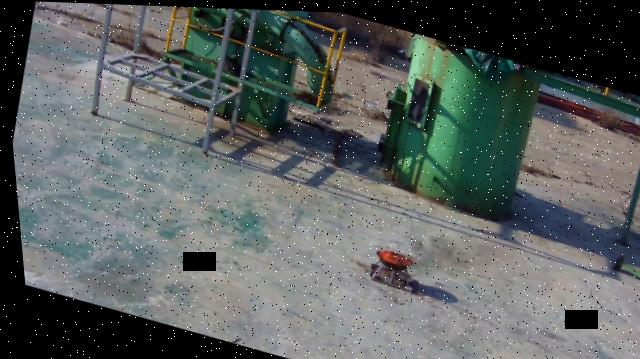fire: (374, 246, 407, 264)
smoke: (398, 223, 460, 279)
